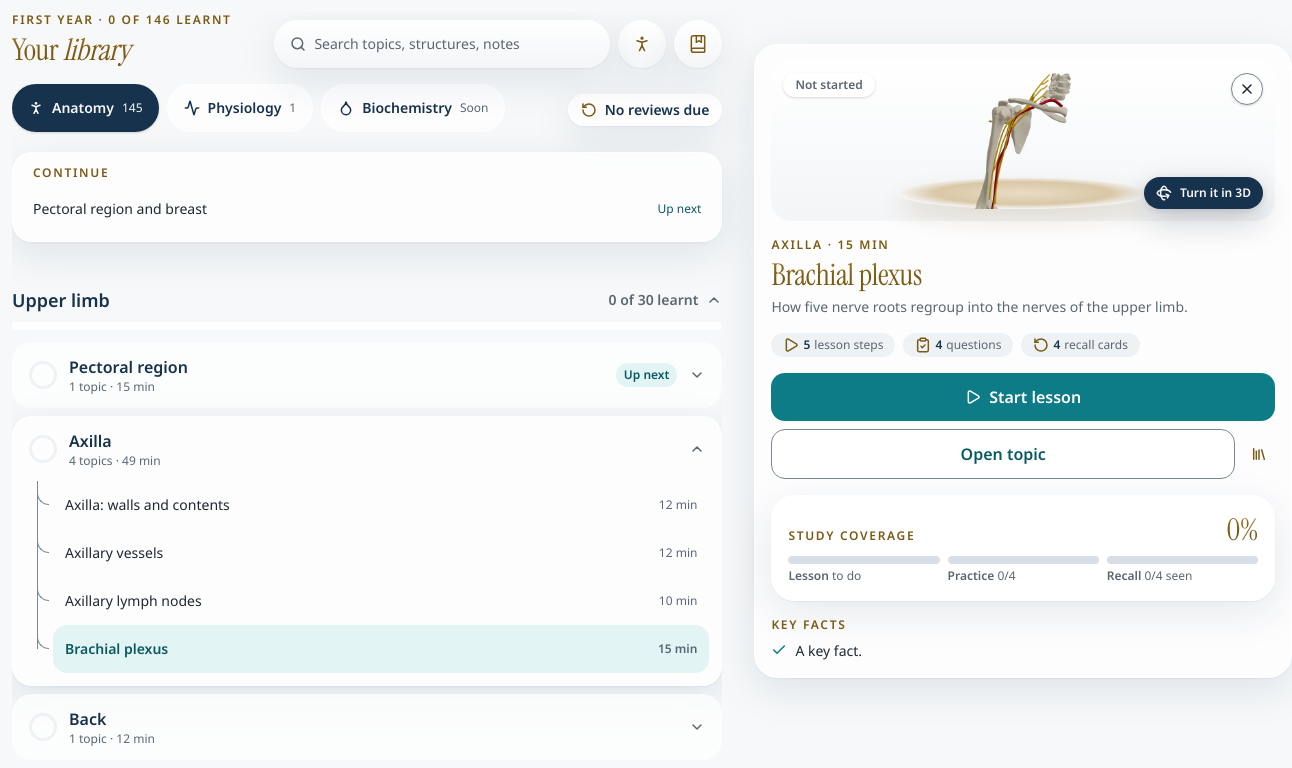
Test: Library › comes back to the topic it was showing, and folds the region away
This screenshot has width=1292, height=768.
Expected: the element named "Topic preview" shows "Brachial plexus", [771,255,922,294]
Expected: the button "Brachial plexus 15 min" is shown, [53,625,709,673]
Click the button "Upper limb 0 of 30 learnt".
click(61, 300)  # box [12,266,722,314]
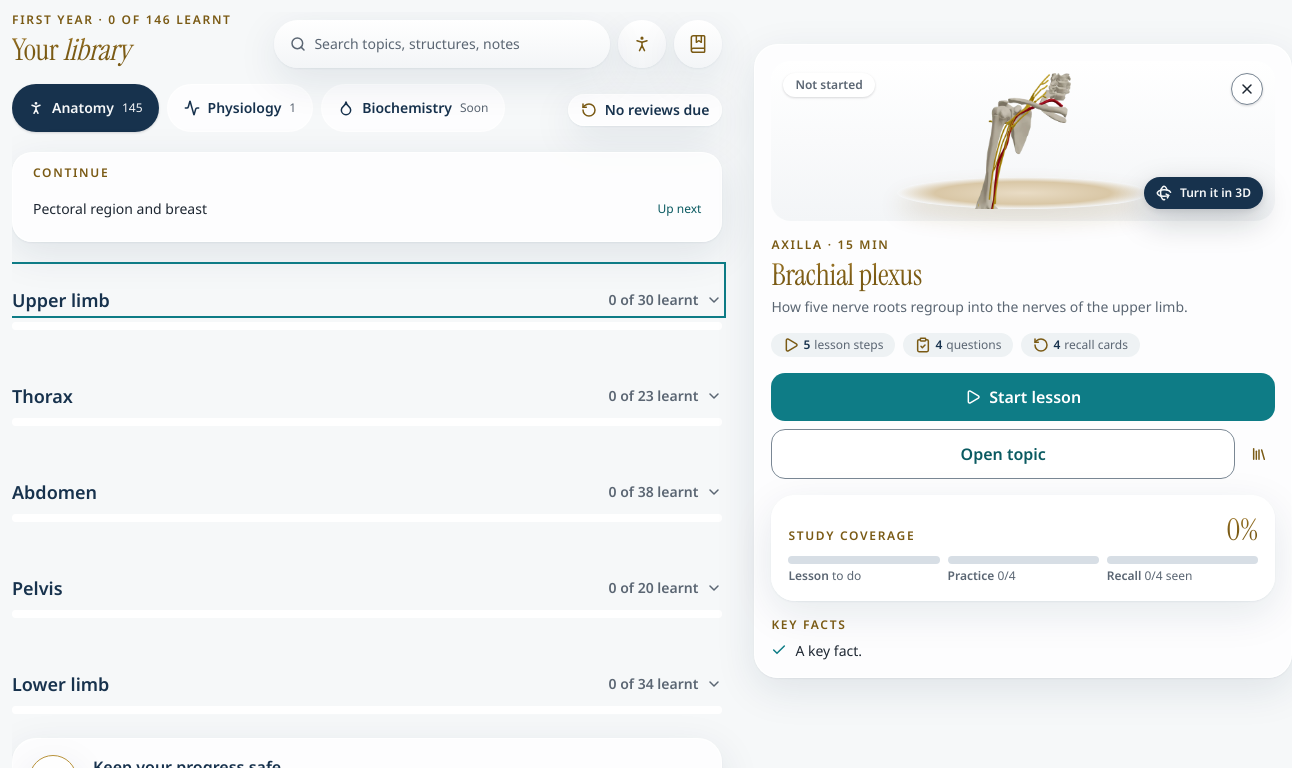
Expected: the button "Upper limb 0 of 30 learnt" is collapsed, [12,266,722,314]
